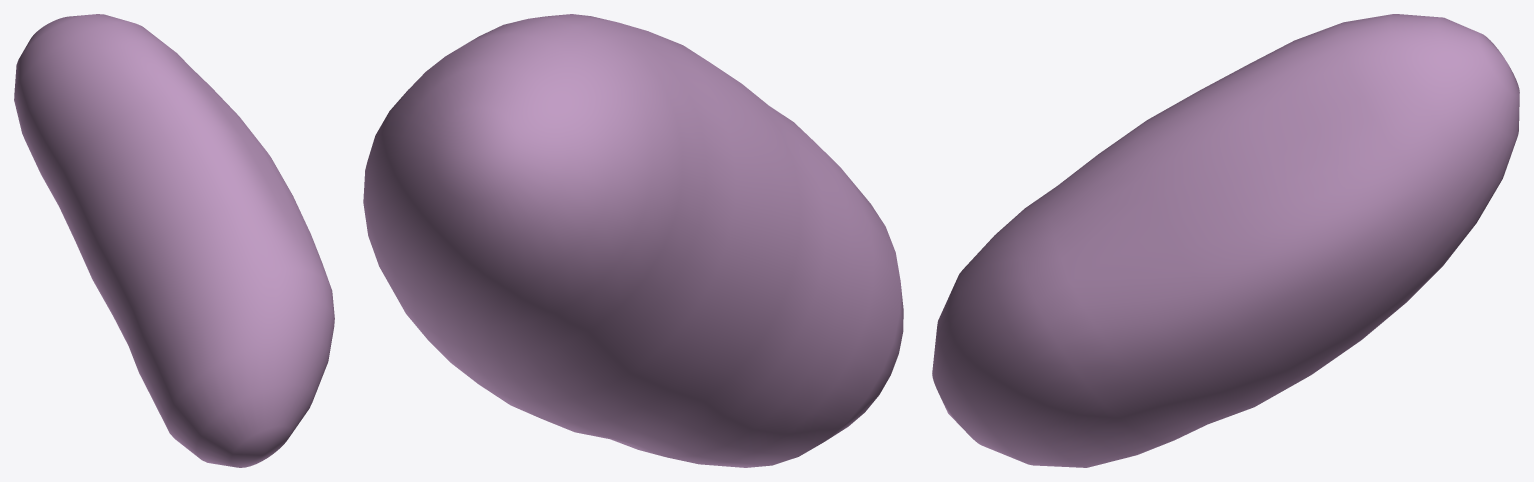
3 renders of one model, left to right at view 1: azimuth 30°, elevation 25°; view 2: azimuth 150°, elevation 25°; view 3: azimuth 270°, elevation 25°, orthographic. The views are drawn at different scales.
Parts seen in each view (by area): view 1: 左侧锥体; view 2: 左侧锥体; view 3: 左侧锥体.
Boxes of the visible parts, box(x1,y1,x2,y2) form: 左侧锥体: box(14, 14, 334, 467); 左侧锥体: box(363, 14, 903, 467); 左侧锥体: box(932, 14, 1519, 467).
Bounding box in the file's own units: 0.00991 × 0.0162 × 0.0197.
